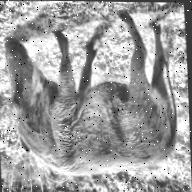boar: (5, 21, 174, 180)
